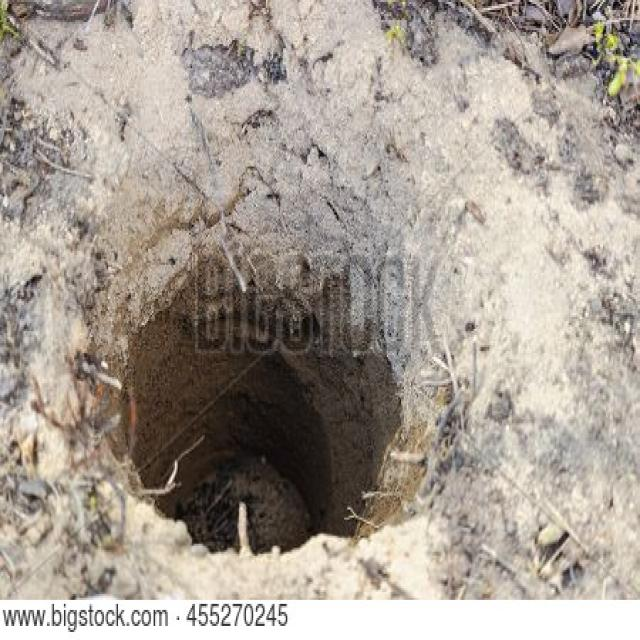hole: (104, 177, 460, 571)
